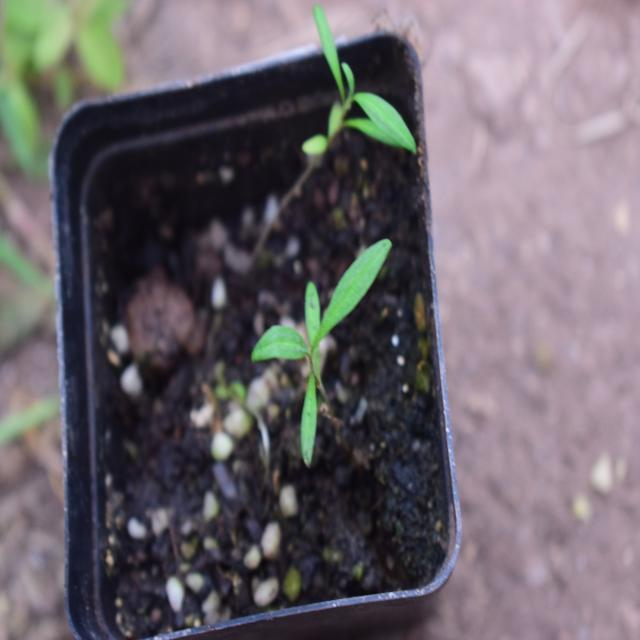white_smart_weed: (217, 222, 408, 443), (284, 8, 410, 182)
